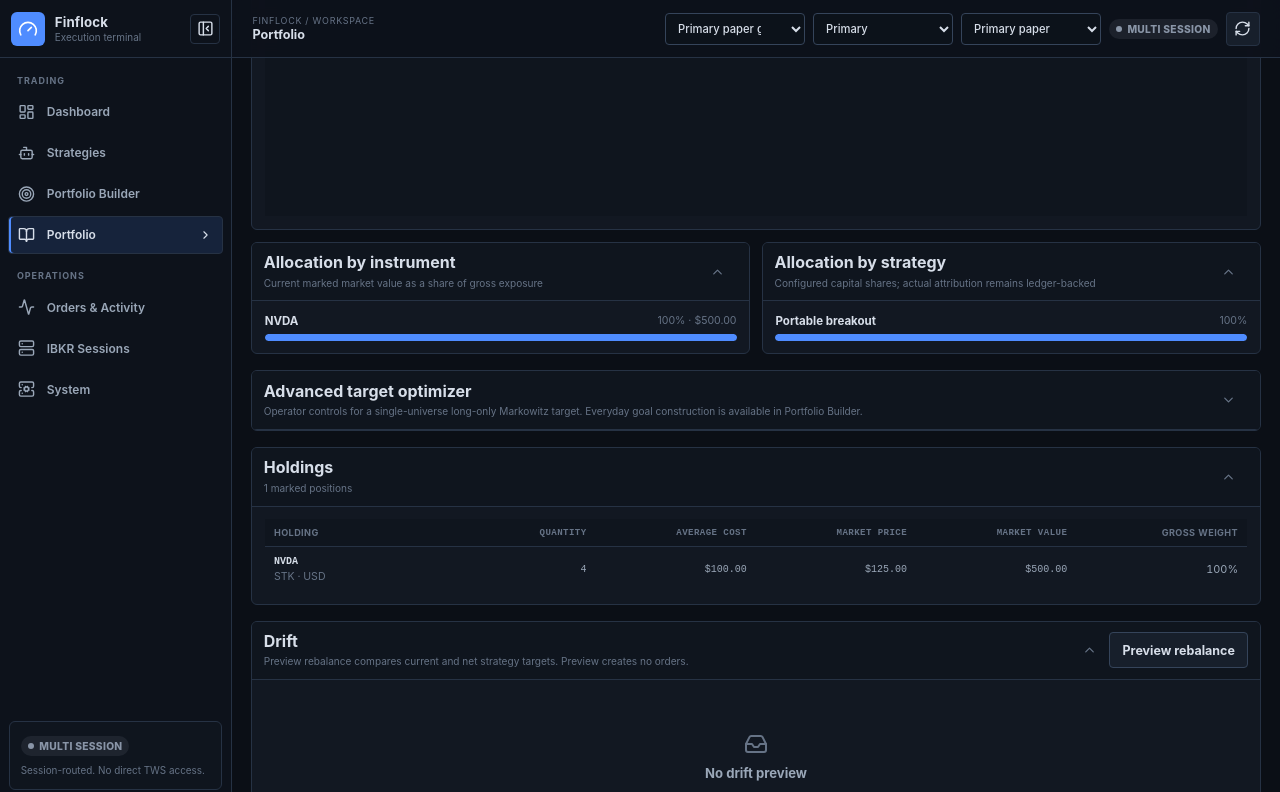
Test: advanced target optimizer previews without orders and offers a Paper apply route
(page scrolled)
Expected: the heading "Advanced target optimizer" is shown, [264,381,472,401]
What coordinates should you click on to do the following:
click the button "Advanced target optimizer"
I would click on:
 (368, 391)
Its box is [264,381,1236,420].
(page scrolled)
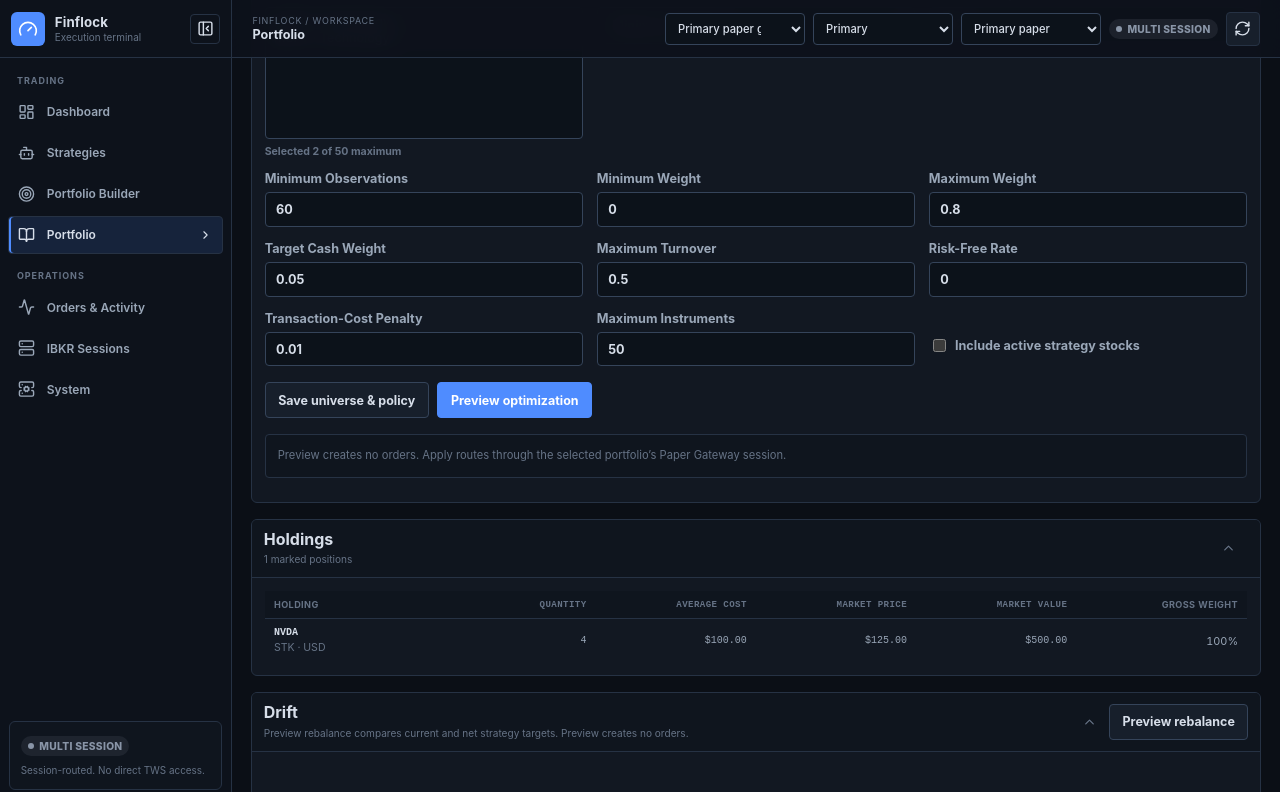
Expected: the button "Preview optimization" is enabled
What coordinates should you click on to do the following:
click the button "Preview optimization"
I would click on:
 (515, 400)
Its box is [438,382,592,418].
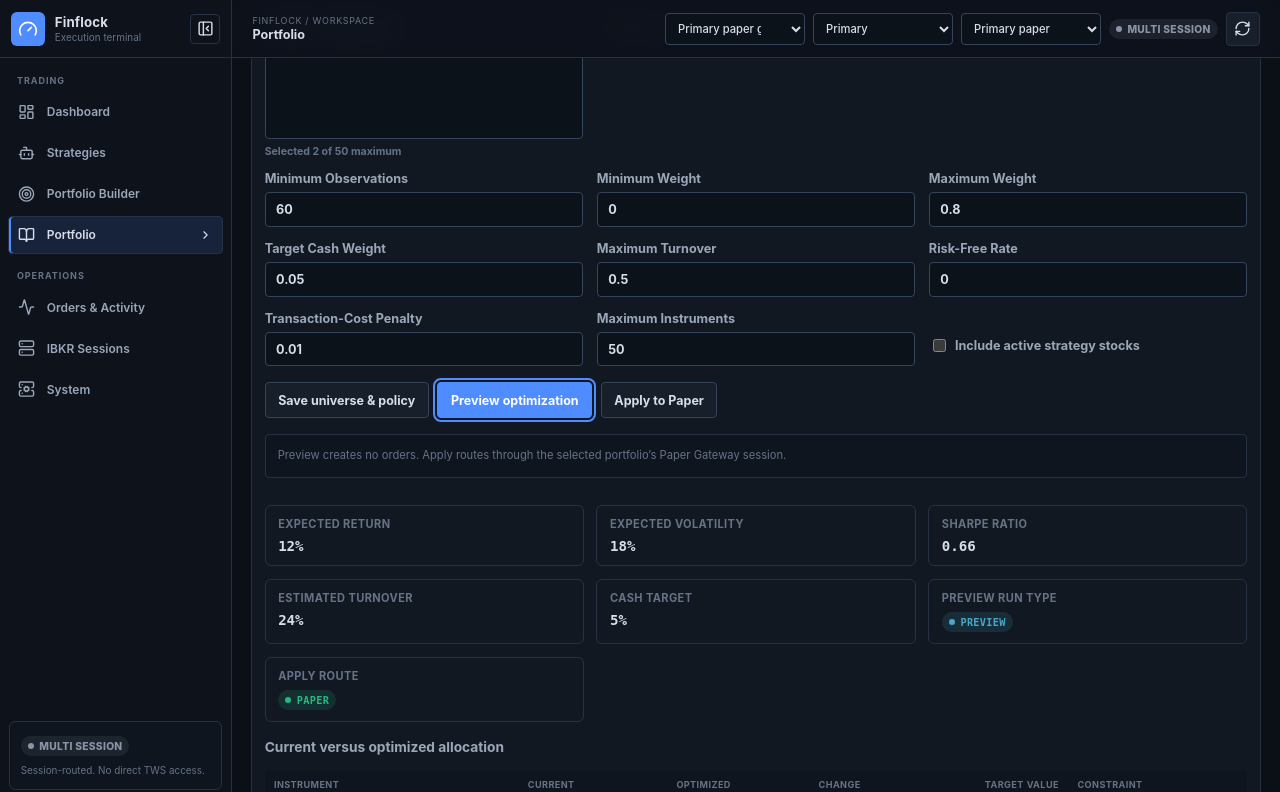
Expected: the text "Preview creates no orders" is shown, [278,448,660,462]
Expected: the heading "Current versus optimized allocation" is shown, [265,739,504,755]
Expected: the text "PREVIEW" is shown, [942,612,1013,632]
